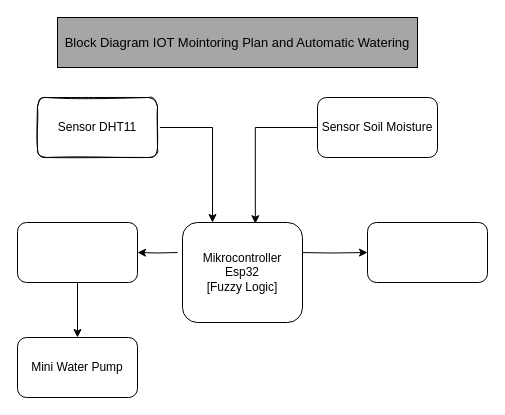
Some shapes in this 505 by 415 pixel diagram are drawn without their labels. Each missing label, with the box of its shape:
Blynk: (366, 222, 488, 282)
Relay: (16, 222, 138, 282)
